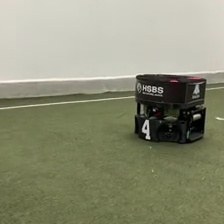robot: (133, 72, 207, 144)
